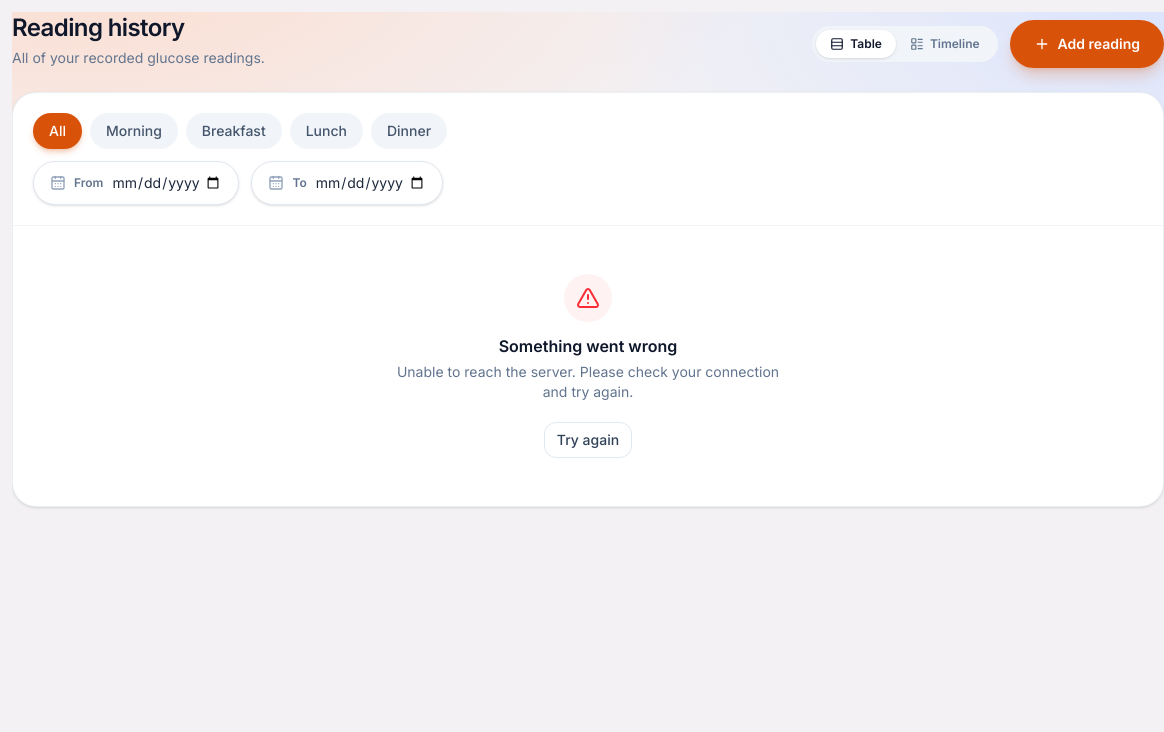
Test: Readings page › shows an error state with retry when loading fails
Expected: the text "Unable to reach the server" is shown, [397,363,779,400]
Click the button "Try again" at (588, 440), box [544,422,632,458]
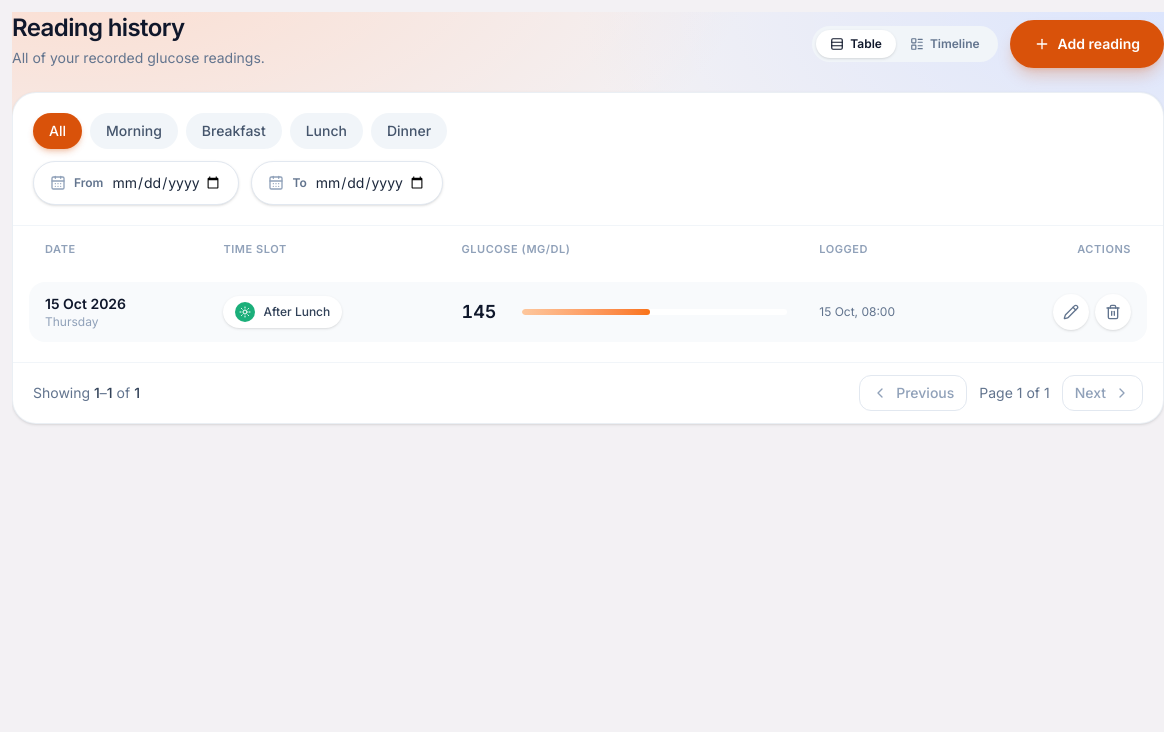
Now the text "After Lunch" is shown, box [223,296,342,328]
